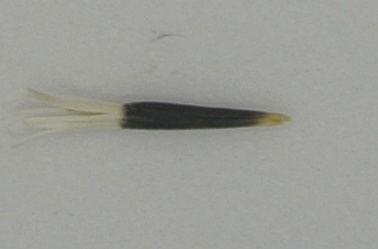เมล็ดดีติดกัน: (10, 90, 293, 152)
